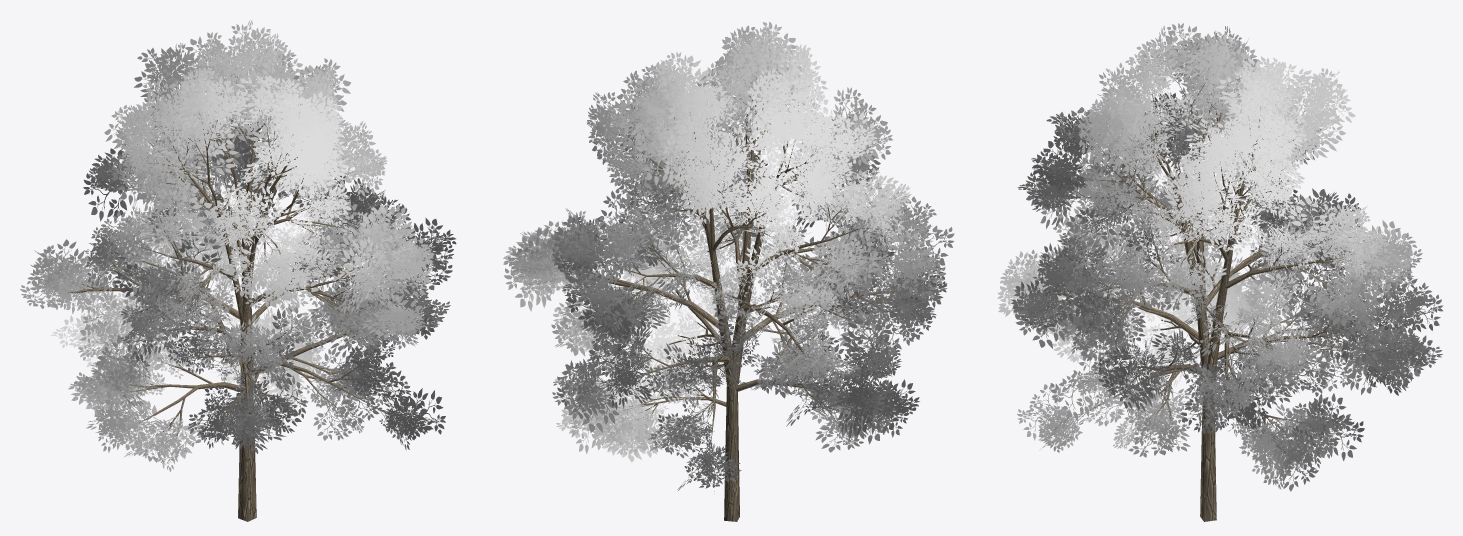
Rendered from 1 high poly teree.fbx.
The picture shows the model from 3 angles, left to right: view 1: azimuth 30°, elevation 25°; view 2: azimuth 150°, elevation 25°; view 3: azimuth 270°, elevation 25°; orthographic projection.
Visible parts, largest first — view 1: tree.261; view 2: tree.261; view 3: tree.261.
Boxes of the visible parts, x1=… form: tree.261: x1=20, y1=20, x2=456, y2=521; tree.261: x1=503, y1=22, x2=954, y2=521; tree.261: x1=997, y1=23, x2=1443, y2=521.
Bounding box in the file's own units: 1155 × 1330 × 1158.
